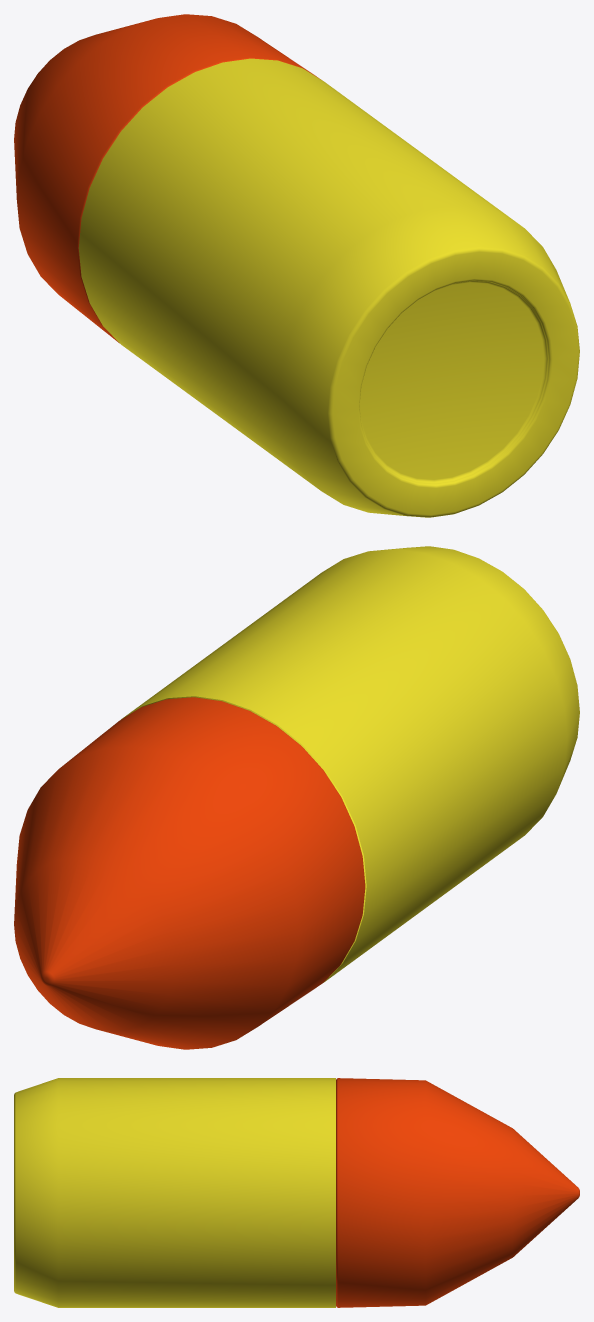
The model's file is Bullet.fbx.
3 views of the same model, one above another, from view 1: azimuth 30°, elevation 25°; view 2: azimuth 150°, elevation 25°; view 3: azimuth 270°, elevation 25° (orthographic). The views are drawn at different scales.
Parts seen in each view (by area): view 1: Cylinder; view 2: Cylinder; view 3: Cylinder.
Part boxes in pixels (x1=…): Cylinder: x1=14, y1=14, x2=579, y2=517; Cylinder: x1=14, y1=546, x2=579, y2=1049; Cylinder: x1=14, y1=1078, x2=579, y2=1307.
Bounding box in the file's own units: 200 × 200 × 492.
